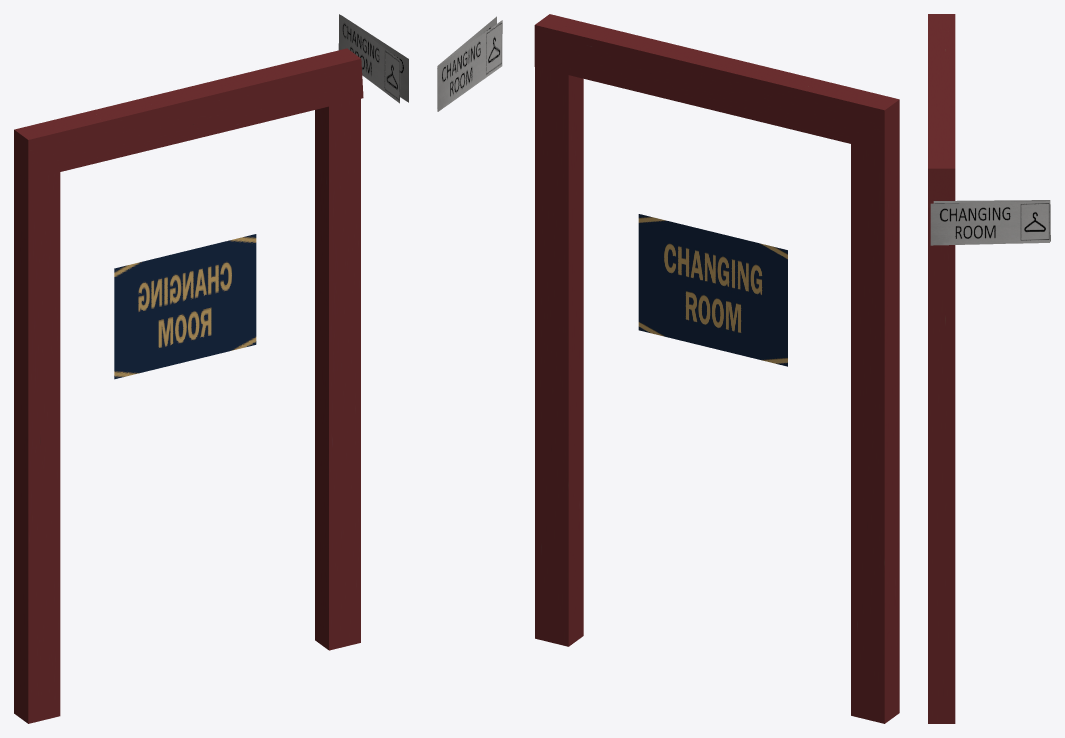
File: door changing room.fbx
The picture shows the model from 3 angles, left to right: view 1: azimuth 30°, elevation 25°; view 2: azimuth 150°, elevation 25°; view 3: azimuth 270°, elevation 25°; orthographic projection. The views are drawn at different scales.
Visible parts, largest first — view 1: polySurface724, polySurface725, polySurface726, polySurface727; view 2: polySurface724, polySurface725, polySurface726; view 3: polySurface724, polySurface727, polySurface726.
Part boxes in pixels (<box>): polySurface724: <box>14,48,363,723</box>; polySurface725: <box>114,234,256,379</box>; polySurface726: <box>338,14,400,103</box>; polySurface727: <box>341,15,408,102</box>; polySurface724: <box>534,14,899,723</box>; polySurface725: <box>638,214,787,366</box>; polySurface726: <box>438,20,502,111</box>; polySurface724: <box>928,14,955,723</box>; polySurface727: <box>930,201,1049,245</box>; polySurface726: <box>933,200,1050,241</box>.
Bounding box in the file's own units: 119 × 173 × 34.73.
